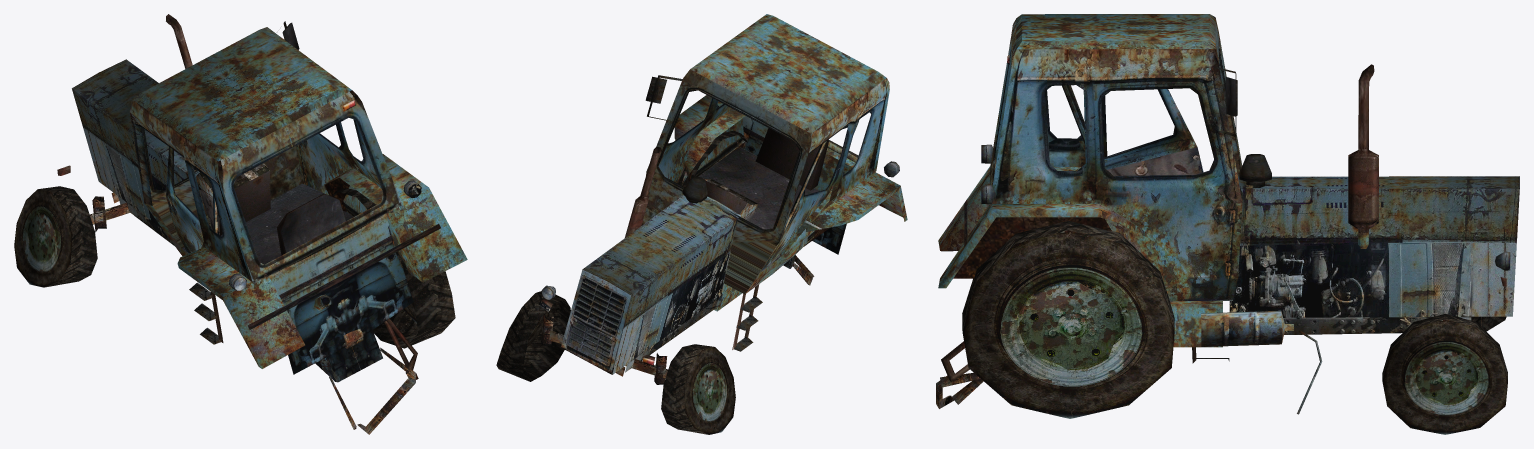
The model's file is tractor_mtz_02_lod2.fbx.
The picture shows the model from 3 angles, left to right: view 1: azimuth 30°, elevation 25°; view 2: azimuth 150°, elevation 25°; view 3: azimuth 270°, elevation 25°; orthographic projection. The views are drawn at different scales.
Visible parts, largest first — view 1: 1; view 2: 1; view 3: 1.
Boxes of the visible parts, x1,y1,x2,y2 form: 1: (14,14,467,434); 1: (496,14,907,434); 1: (936,14,1519,434).
Size of the model in its own units: 1.67 by 2.1 by 2.98.
